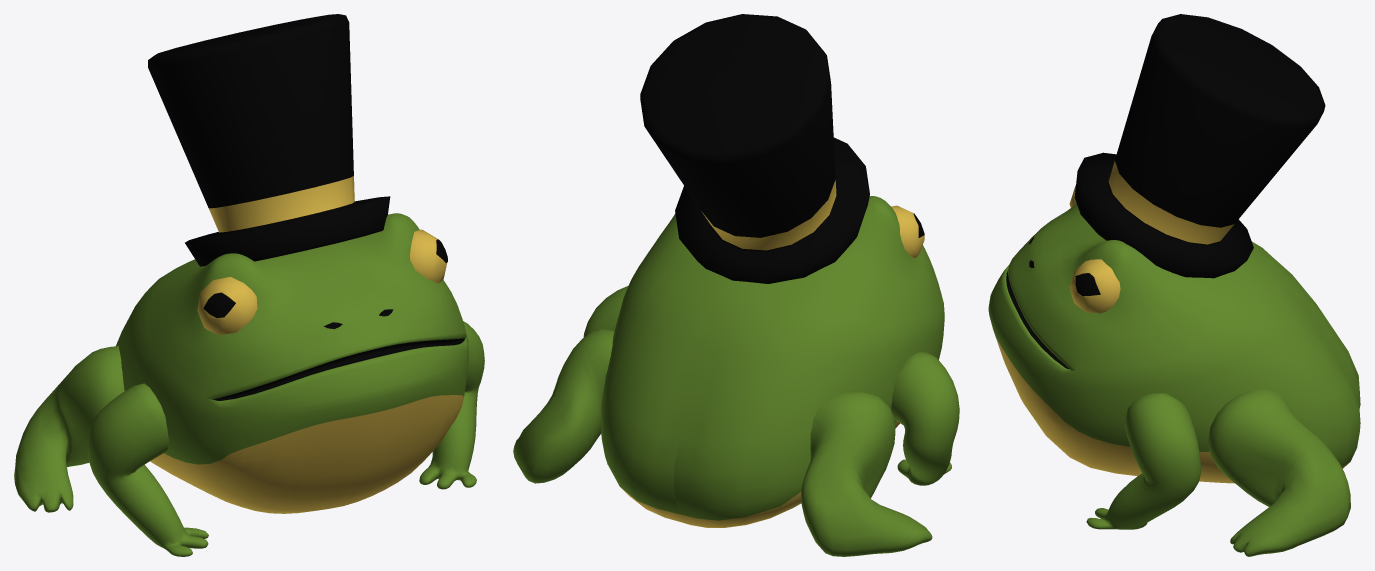
The model's file is rana1.glb.
The picture shows the model from 3 angles, left to right: view 1: azimuth 30°, elevation 25°; view 2: azimuth 150°, elevation 25°; view 3: azimuth 270°, elevation 25°; orthographic projection. The views are drawn at different scales.
Parts seen in each view (by area): view 1: Cube_Retopo, Circle, Cube.001, Cube_Retopo.001, Icosphere; view 2: Cube_Retopo, Circle, Cube_Retopo.001, Cube.001, Icosphere; view 3: Cube_Retopo, Circle, Cube_Retopo.001, Cube.001, Icosphere.
Part boxes in pixels (box(x1,y1,x2,y2)): Cube_Retopo: box(116, 213, 468, 513); Circle: box(148, 14, 390, 266); Cube.001: box(87, 321, 484, 556); Cube_Retopo.001: box(14, 346, 124, 512); Icosphere: box(197, 229, 447, 334); Cube_Retopo: box(601, 196, 944, 527); Circle: box(640, 14, 869, 283); Cube_Retopo.001: box(513, 329, 932, 556); Cube.001: box(583, 285, 959, 485); Icosphere: box(891, 205, 924, 257); Cube_Retopo: box(988, 203, 1360, 483); Circle: box(1074, 14, 1325, 278); Cube_Retopo.001: box(1208, 389, 1350, 556); Cube.001: box(1086, 393, 1201, 529); Icosphere: box(1069, 185, 1120, 313).
Size of the model in its own units: 2.26 by 2.39 by 1.84.
